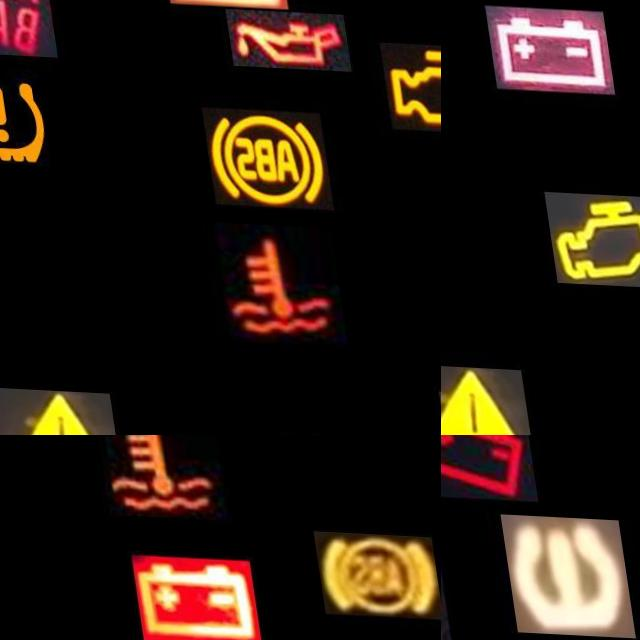Central Warning lamp: (441, 361, 517, 435), (0, 387, 105, 435)
Engine cooling system: (202, 219, 334, 342), (81, 435, 213, 519)
